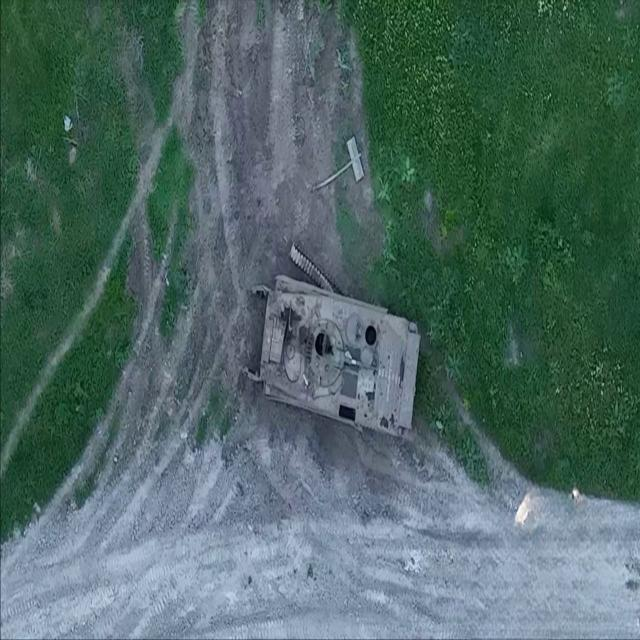AIFV: (258, 272, 427, 444)
